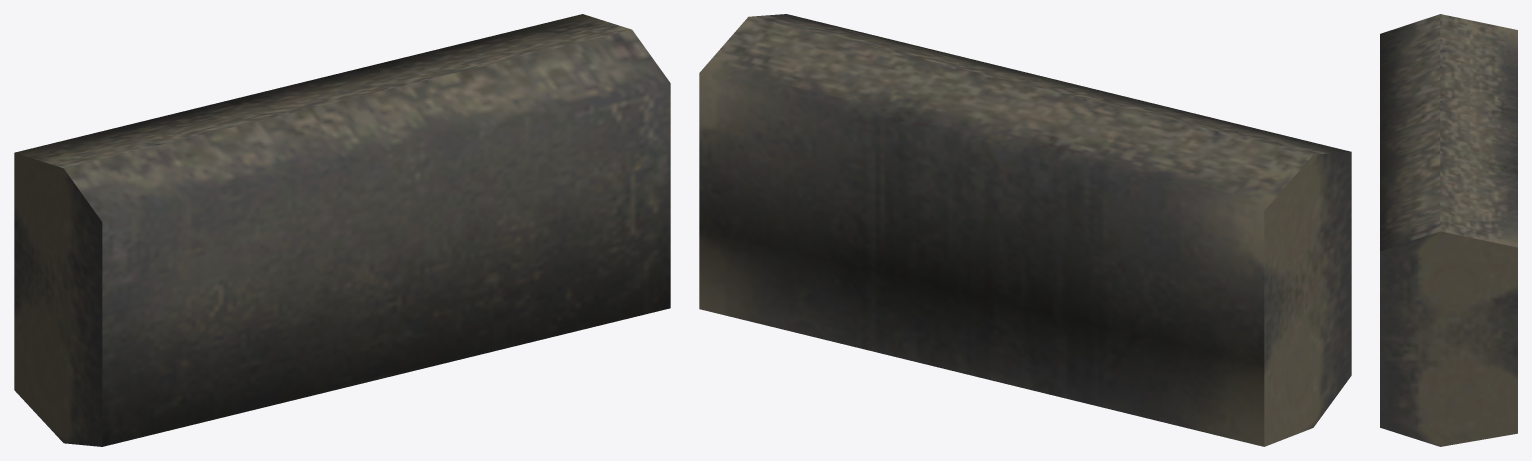
3 renders of one model, left to right at view 1: azimuth 30°, elevation 25°; view 2: azimuth 150°, elevation 25°; view 3: azimuth 270°, elevation 25°, orthographic. The views are drawn at different scales.
Visible parts, largest first — view 1: set_0_group_0; view 2: set_0_group_0; view 3: set_0_group_0.
Boxes of the visible parts, x1,y1,x2,y2 form: set_0_group_0: [14, 14, 670, 446]; set_0_group_0: [699, 14, 1351, 446]; set_0_group_0: [1380, 14, 1517, 446].
Size of the model in its own units: 0.3127 by 0.1445 by 0.0839.
1 material, 1 textured.
